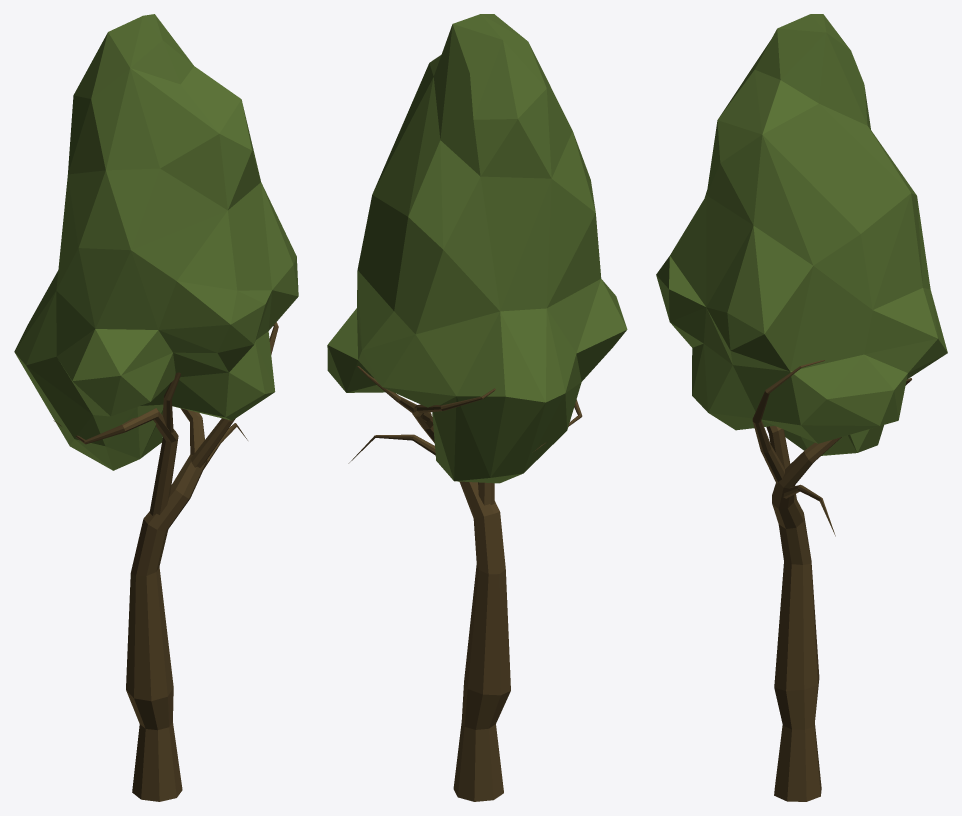
The model's file is DarkWoodDecorationLargeTreeWithLeavesSingleCrown2.fbx.
3 views of the same model, side by side, from view 1: azimuth 30°, elevation 25°; view 2: azimuth 150°, elevation 25°; view 3: azimuth 270°, elevation 25° (orthographic).
Parts seen in each view (by area): view 1: Canopy, TreeTrunk; view 2: Canopy, TreeTrunk; view 3: Canopy, TreeTrunk.
Boxes of the visible parts, left/top/right/bottom form: Canopy: left=14, top=14, right=298, bottom=470; TreeTrunk: left=53, top=322, right=278, bottom=801; Canopy: left=327, top=14, right=627, bottom=483; TreeTrunk: left=348, top=366, right=582, bottom=801; Canopy: left=656, top=14, right=947, bottom=455; TreeTrunk: left=752, top=360, right=911, bottom=801.
Size of the model in its own units: 375 by 1162 by 397.
